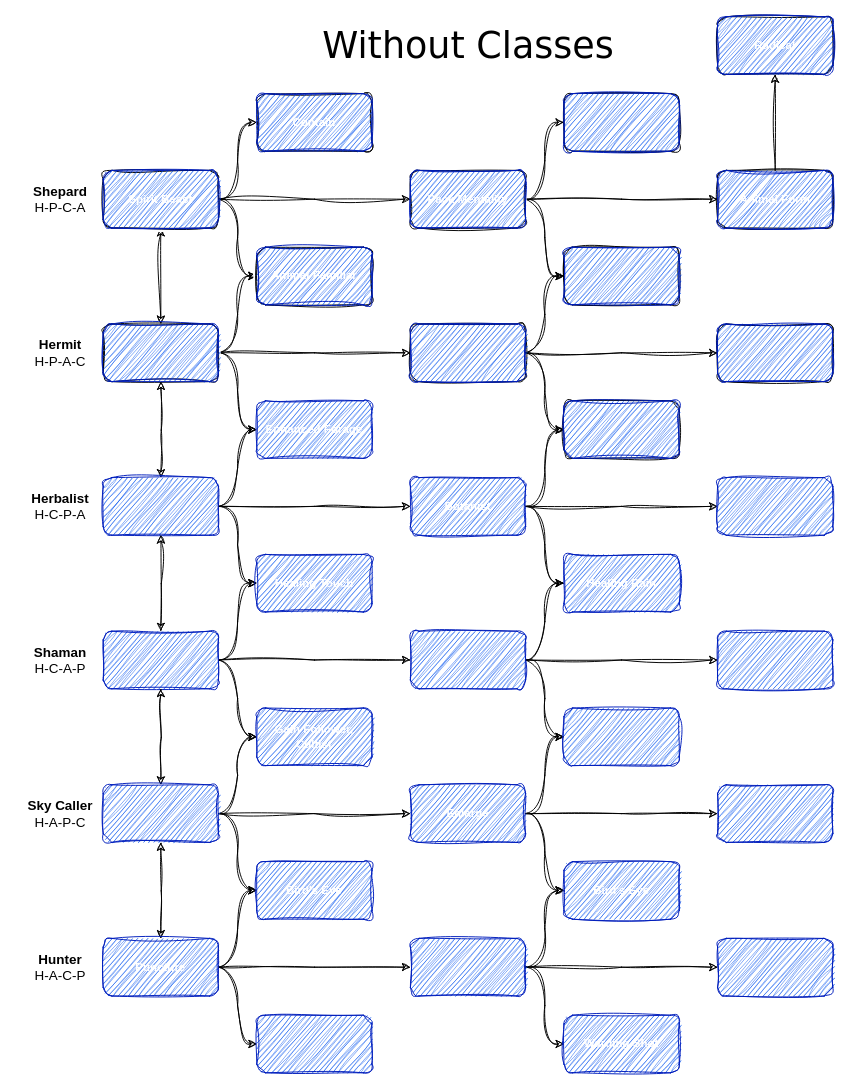
Image size: 850x1090. Some labels were removed from this diagram. The shapes that lost their labels are listed below. From the top down, each one's centre as x and y in pixels, then its label:
At pixel 160 506: "Infusion".
At pixel 775 506: "Rare Growth".
At pixel 160 659: "Ballad".
At pixel 467 659: "Folksong".
At pixel 621 736: "Warcry".
At pixel 775 813: "Voice on the Wind".
At pixel 314 1043: "Combat Shot".
